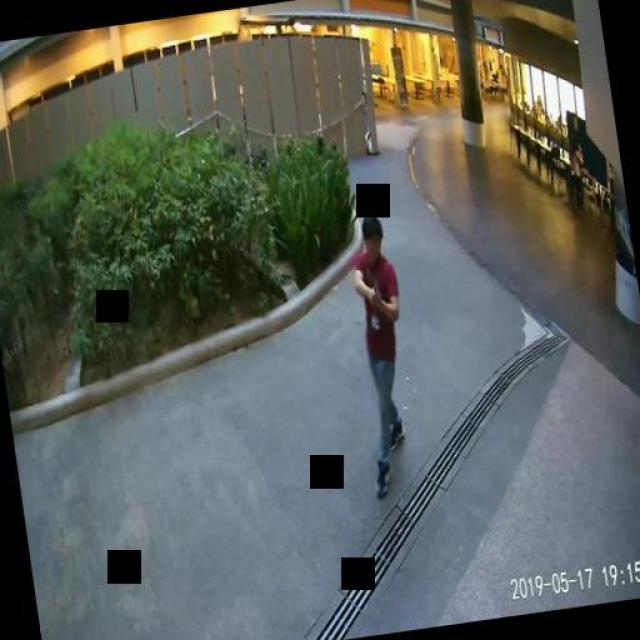gun: (366, 276, 382, 306)
